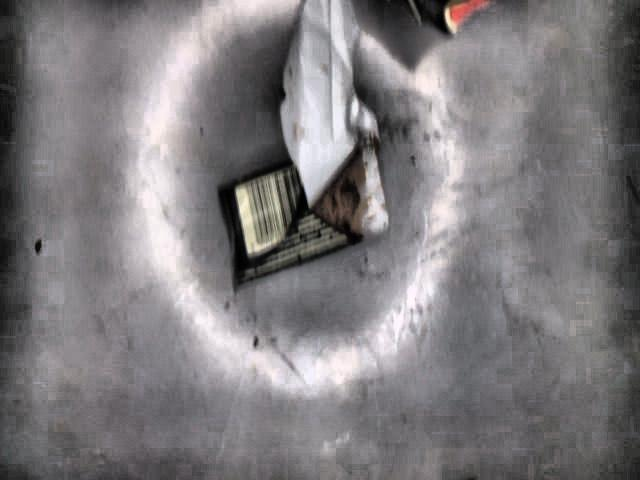Almennt: (310, 153, 367, 240)
Plastic: (216, 0, 378, 287), (388, 0, 496, 35)
